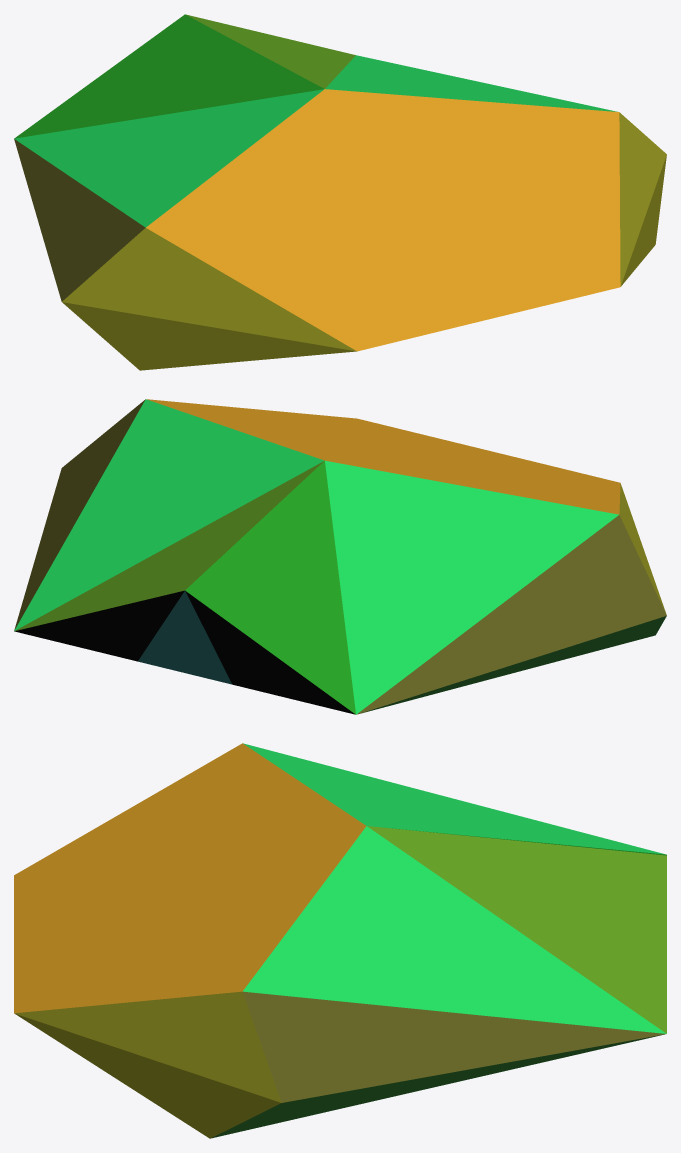
Rendered from arc_asp_mk2.glb.
The picture shows the model from 3 angles, top to bottom: view 1: azimuth 30°, elevation 25°; view 2: azimuth 150°, elevation 25°; view 3: azimuth 270°, elevation 25°; orthographic projection. The views are drawn at different scales.
Visible parts, largest first — view 1: griff_arcelite_asp2v; view 2: griff_arcelite_asp2v, griff_arcelite_asp2v.001; view 3: griff_arcelite_asp2v.
Boxes of the visible parts, x1,y1,x2,y2 form: griff_arcelite_asp2v: (14, 14, 666, 370); griff_arcelite_asp2v: (14, 399, 666, 714); griff_arcelite_asp2v.001: (138, 591, 232, 684); griff_arcelite_asp2v: (14, 743, 666, 1138).
Bounding box in the file's own units: 0.8133 × 0.2122 × 0.7072.
1 material, 1 textured.
